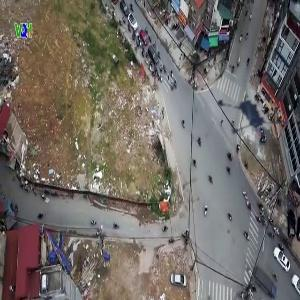drone: (198, 73, 292, 167)
